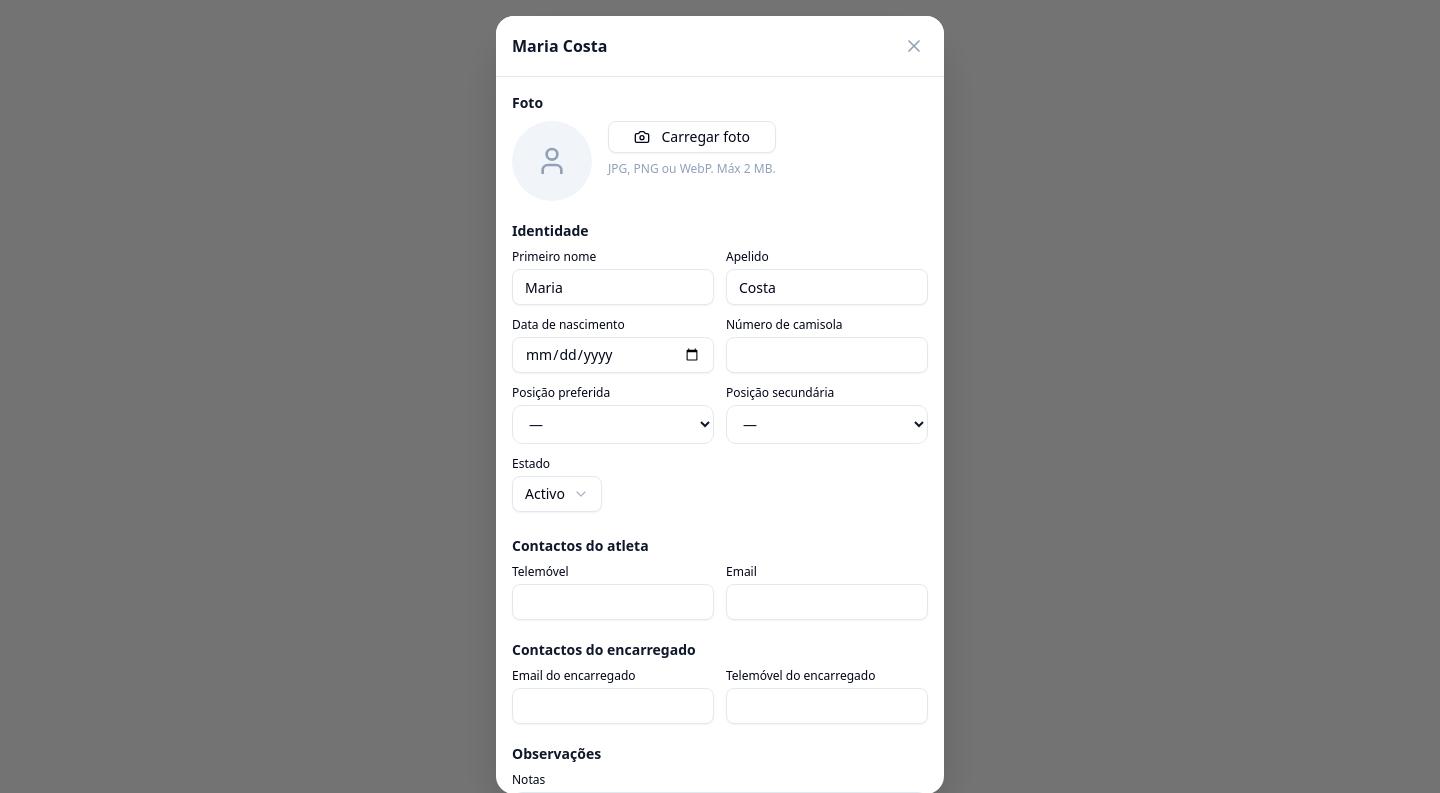
Test case: PlayerEditModal — edit mode › [#6] erro 500 mostra alerta inline e modal não fecha
Replace the text in the field labelled "Primeiro nome" with "Outra" at (613, 287), box x1=512 y1=269 x2=714 y2=305
(page scrolled)
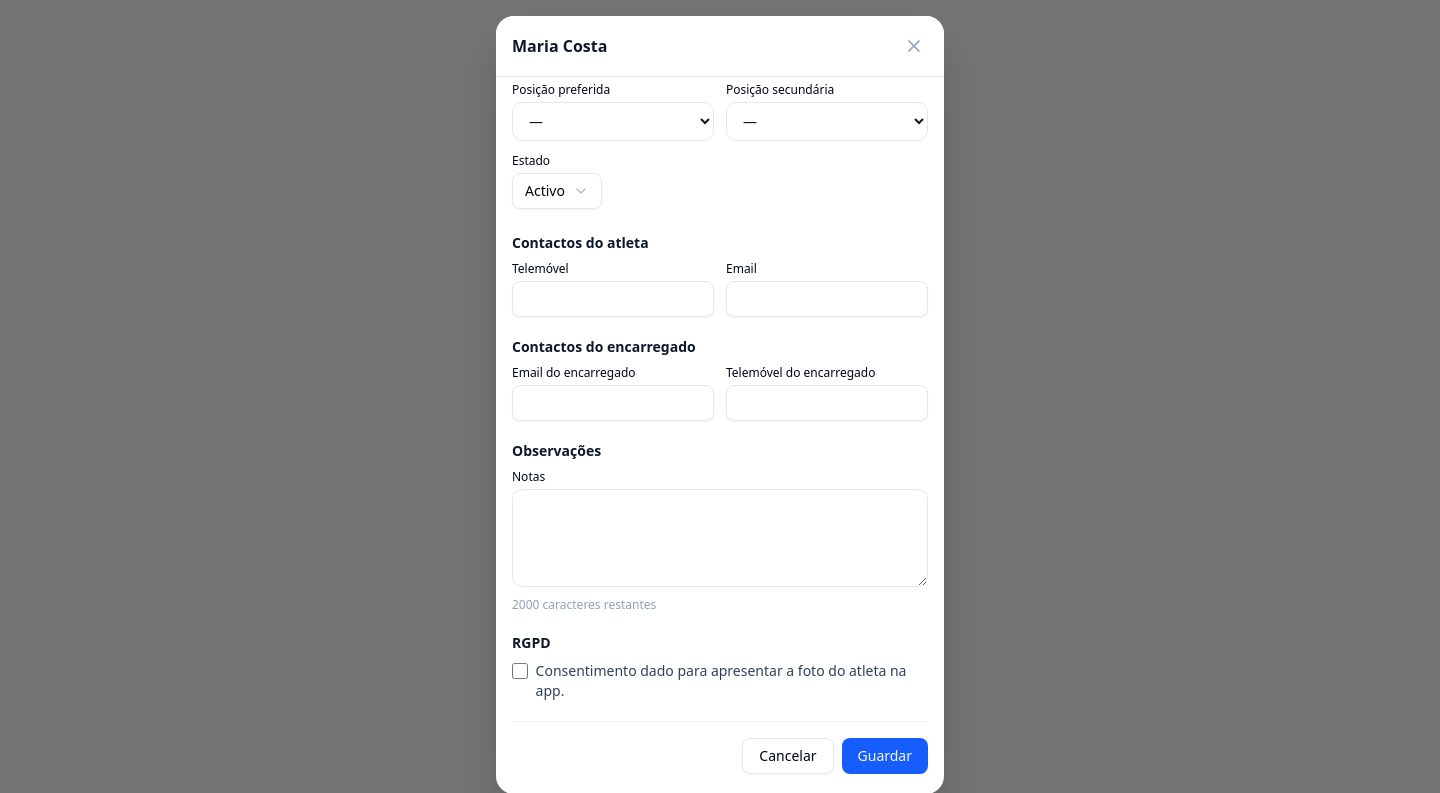
Click the button "Guardar" at (885, 756), box x1=842 y1=738 x2=928 y2=774
(page scrolled)
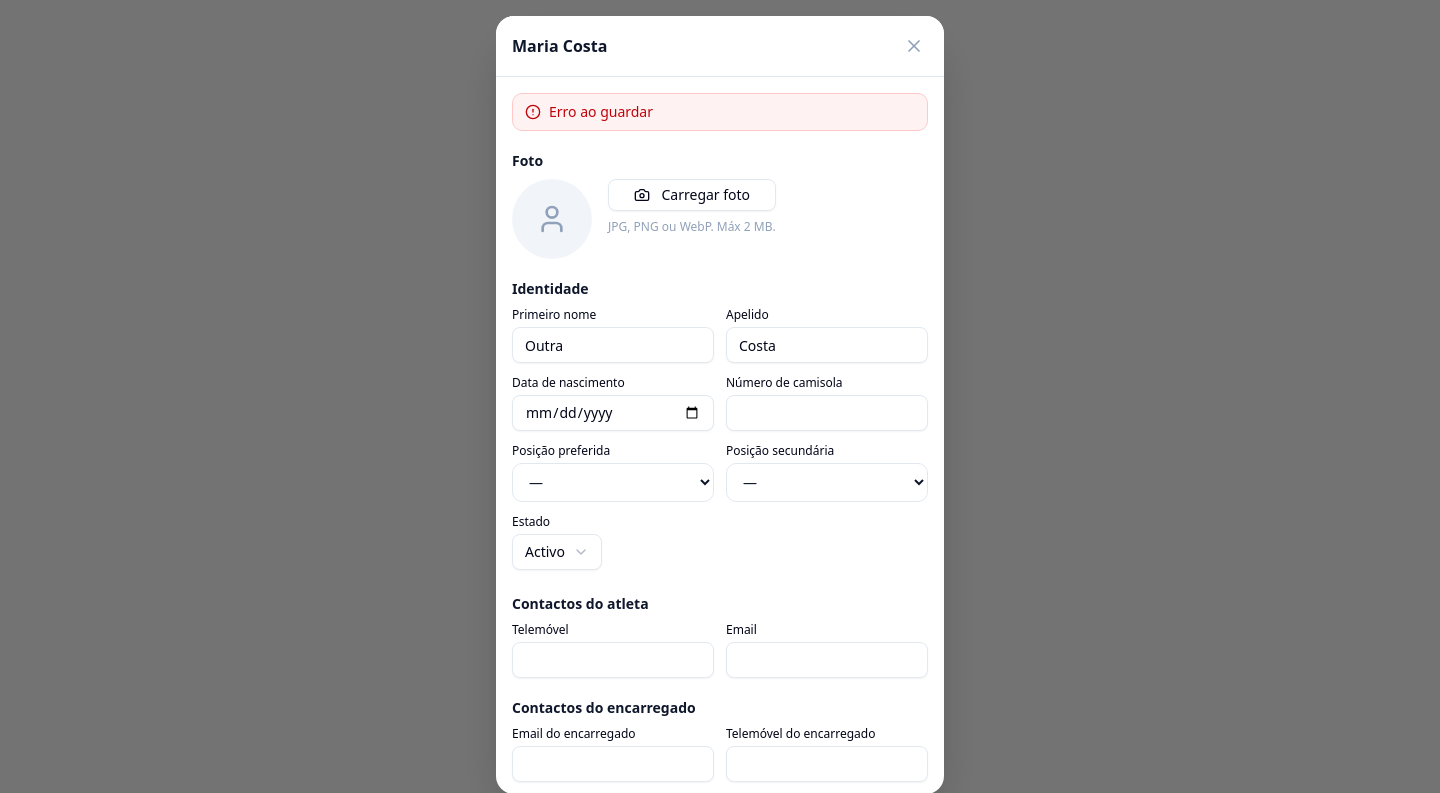
Check: the text "Erro ao guardar" is shown, box x1=549 y1=102 x2=653 y2=122
